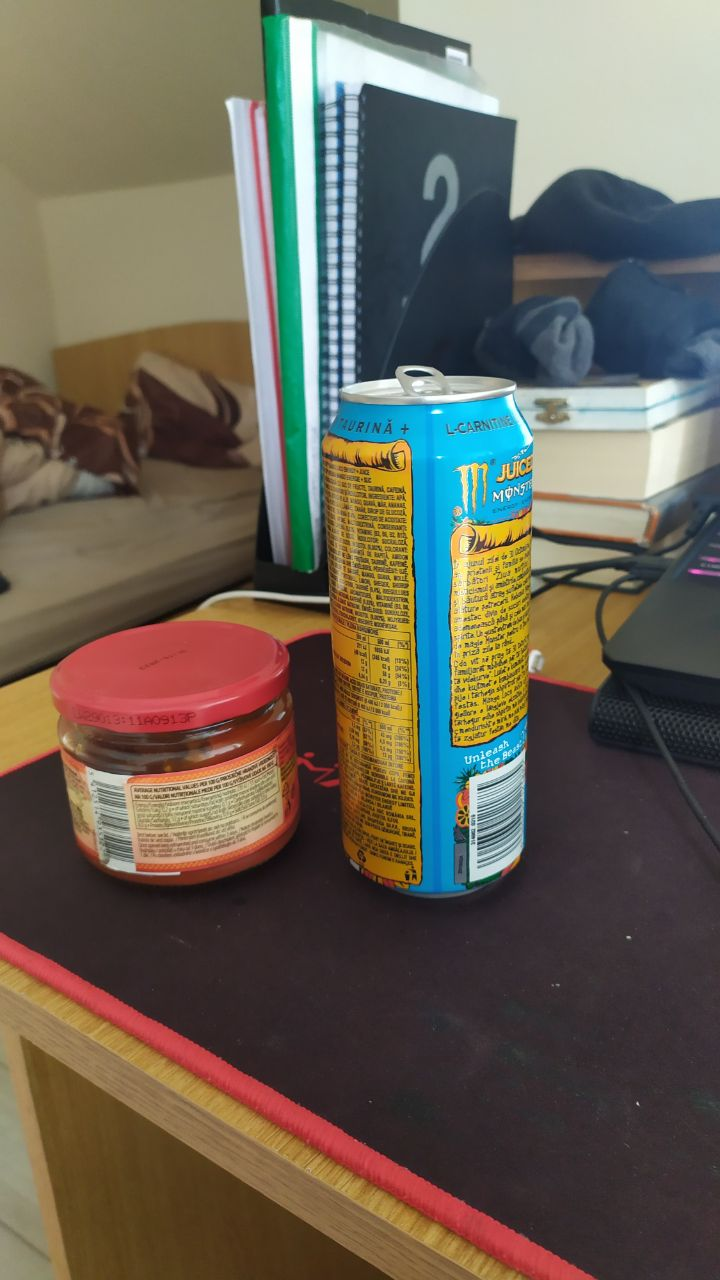Can: (324, 367, 532, 905)
